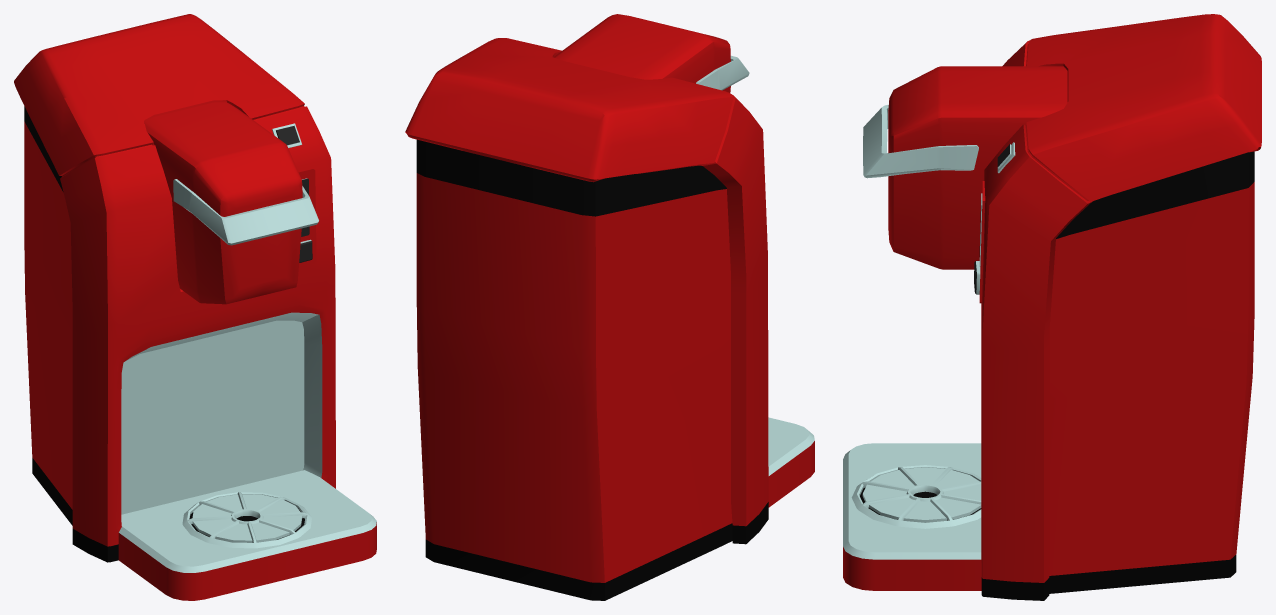
The model's file is CoffeeMachine3.fbx.
3 views of the same model, side by side, from view 1: azimuth 30°, elevation 25°; view 2: azimuth 150°, elevation 25°; view 3: azimuth 270°, elevation 25° (orthographic). The views are drawn at different scales.
Parts seen in each view (by area): view 1: CoffeeMachine3; view 2: CoffeeMachine3; view 3: CoffeeMachine3.
Part boxes in pixels (x1=…): CoffeeMachine3: x1=14, y1=14, x2=376, y2=600; CoffeeMachine3: x1=405, y1=14, x2=814, y2=600; CoffeeMachine3: x1=843, y1=14, x2=1261, y2=600.
Bounding box in the file's own units: 120 × 201 × 159.
